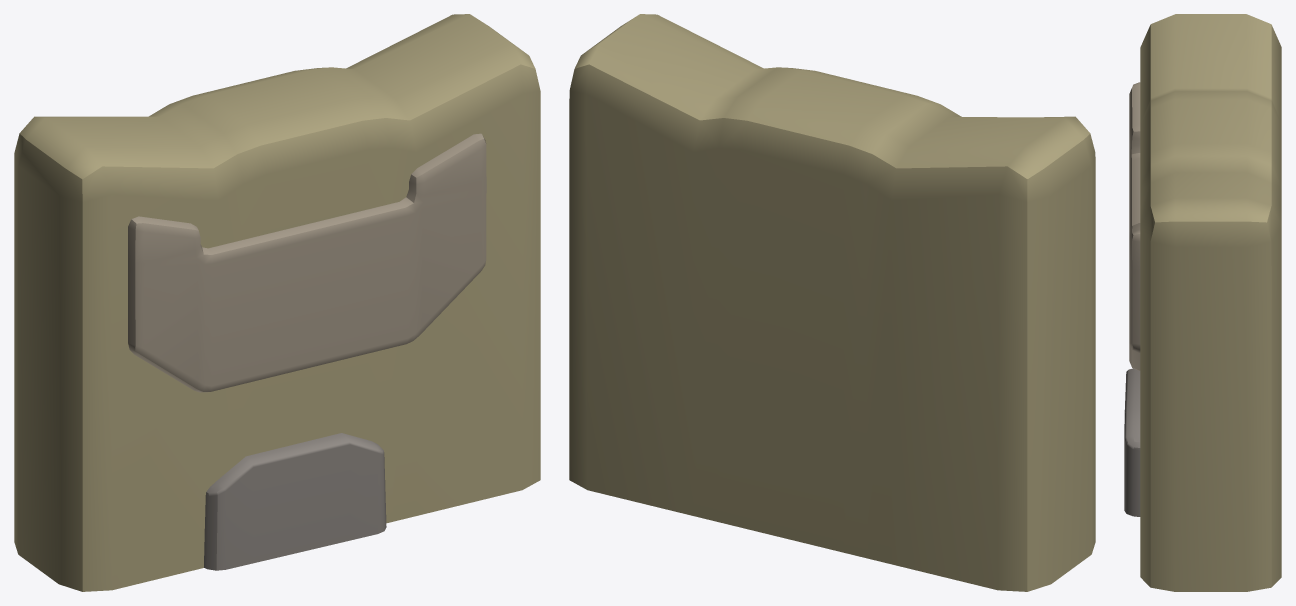
3 renders of one model, left to right at view 1: azimuth 30°, elevation 25°; view 2: azimuth 150°, elevation 25°; view 3: azimuth 270°, elevation 25°, orthographic. The views are drawn at different scales.
Parts seen in each view (by area): view 1: pCube101; view 2: pCube101; view 3: pCube101.
Part boxes in pixels (x1,y1,x2,y2): pCube101: (14,14,540,591); pCube101: (569,14,1095,591); pCube101: (1124,14,1281,591).
Bounding box in the file's own units: 51.24 × 44.12 × 16.47.
